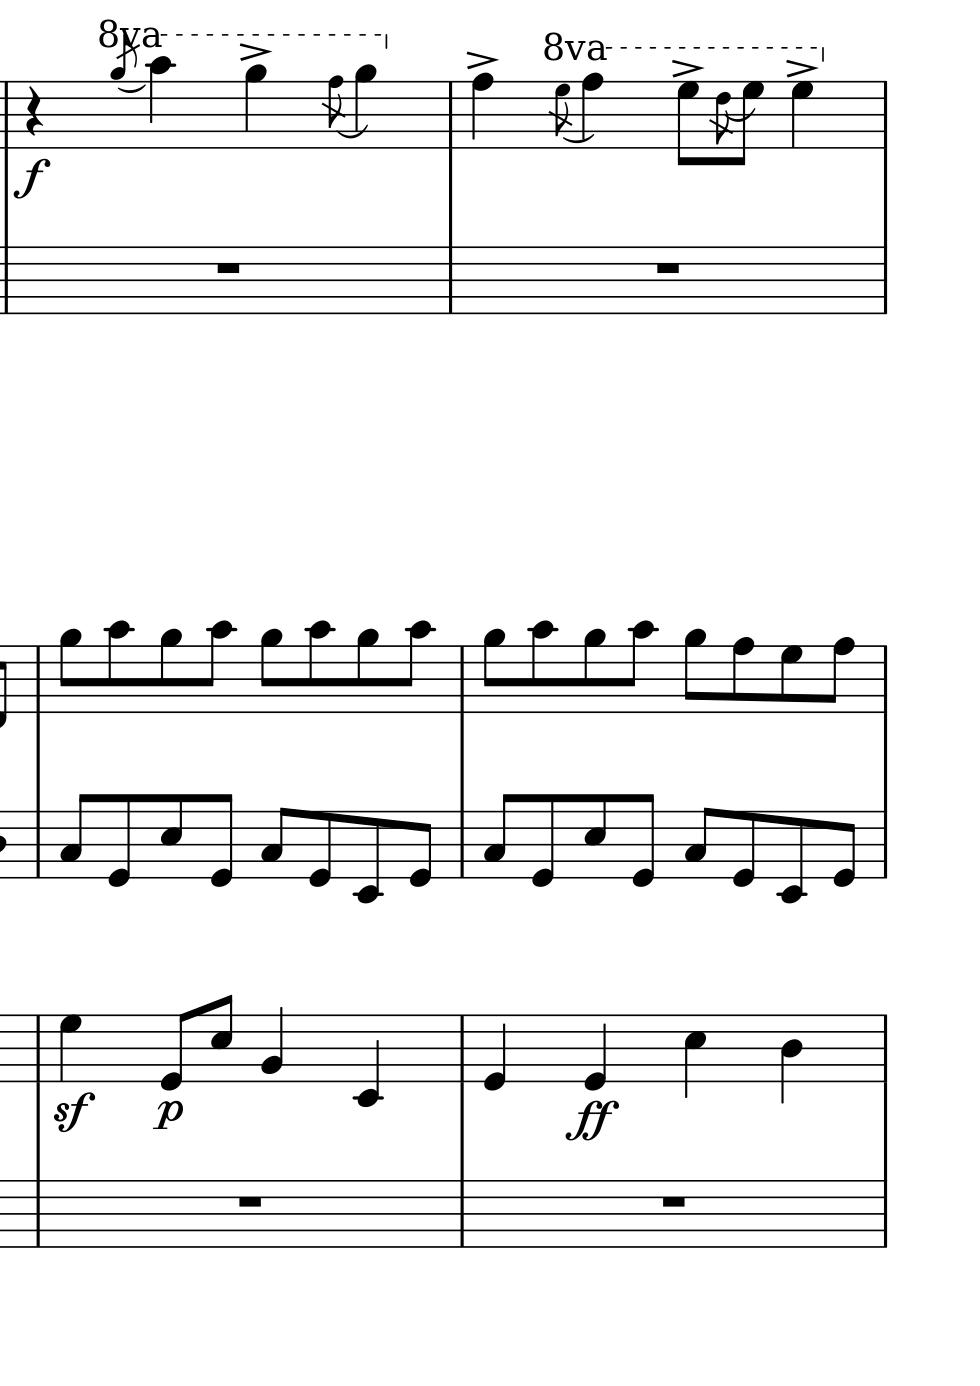4_-2: (353, 1011, 382, 1108)
4_0: (581, 1012, 609, 1092), (482, 1012, 508, 1092)
4_10: (147, 55, 174, 151)
4_2: (259, 1005, 285, 1084)
4_4: (777, 1012, 804, 1106)
4_5: (681, 1013, 708, 1102)
4_7: (57, 1012, 85, 1084), (789, 80, 813, 150)
4_8: (469, 72, 494, 150)
4_9: (243, 64, 268, 151)
8_-2: (352, 809, 383, 906), (775, 809, 806, 903)
8_0: (206, 791, 237, 891), (158, 1007, 193, 1093), (105, 792, 133, 891), (629, 792, 657, 891), (529, 793, 557, 890), (730, 808, 758, 890), (307, 808, 334, 890), (406, 809, 434, 890), (832, 809, 856, 889)
8_10: (398, 620, 433, 716), (622, 619, 655, 715), (202, 619, 234, 715), (103, 618, 133, 715), (305, 619, 332, 715), (529, 618, 555, 716)
8_3: (482, 792, 515, 881), (58, 792, 91, 881), (259, 806, 291, 881), (683, 805, 715, 880)
8_5: (156, 792, 185, 880), (580, 791, 608, 880), (208, 992, 234, 1084)
8_7: (736, 78, 764, 166), (673, 80, 699, 168), (778, 644, 803, 715)
8_8: (820, 635, 854, 716), (730, 636, 755, 716), (579, 72, 603, 150)
8_9: (258, 628, 284, 715), (682, 628, 707, 716), (57, 628, 83, 715), (157, 628, 182, 715), (352, 64, 377, 151), (482, 628, 506, 715), (581, 628, 606, 715), (355, 628, 379, 715)
Accent_above: (463, 50, 498, 71), (669, 58, 706, 77), (238, 42, 272, 62), (784, 59, 818, 78)
Acciaccature: (108, 31, 138, 150), (548, 81, 575, 150), (322, 71, 346, 148), (712, 80, 731, 153)
Rests1: (212, 258, 244, 277), (658, 1192, 689, 1211), (652, 258, 683, 277), (234, 1193, 265, 1211)
Rests4: (24, 86, 43, 137)
Single_barline: (451, 810, 472, 879), (452, 1179, 472, 1248), (453, 1015, 473, 1082), (875, 645, 894, 713), (874, 1180, 893, 1248), (452, 646, 471, 713), (441, 246, 459, 314), (442, 82, 460, 148), (876, 81, 893, 150), (29, 810, 46, 879), (875, 246, 892, 314), (876, 811, 893, 879), (29, 1179, 46, 1247), (29, 646, 46, 713), (876, 1014, 892, 1083), (31, 1014, 47, 1082), (1, 247, 15, 315), (1, 82, 14, 148)
Slur: (115, 81, 146, 94)
f: (13, 158, 52, 199)
ff: (563, 1096, 622, 1144)
p: (152, 1098, 183, 1131)
sf: (53, 1090, 93, 1133)
